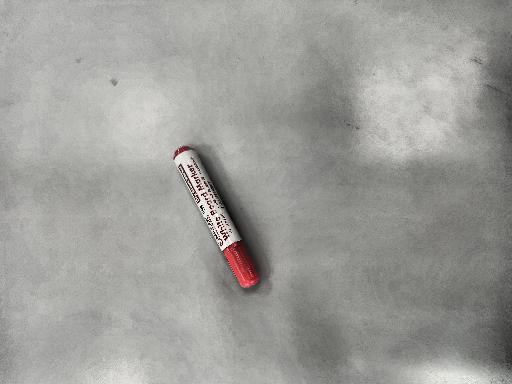marcador rojo: (174, 146, 259, 287)
